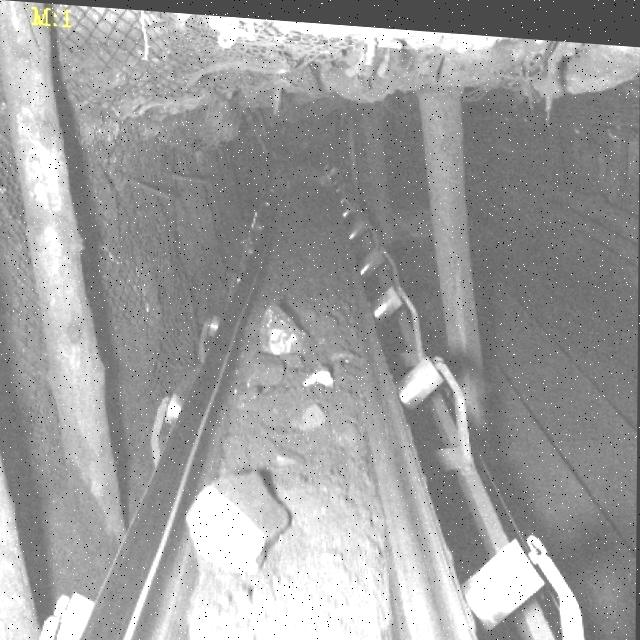large_sized_coal: (158, 457, 321, 586), (252, 290, 314, 351), (236, 353, 291, 386), (297, 397, 340, 430), (296, 355, 337, 385)
